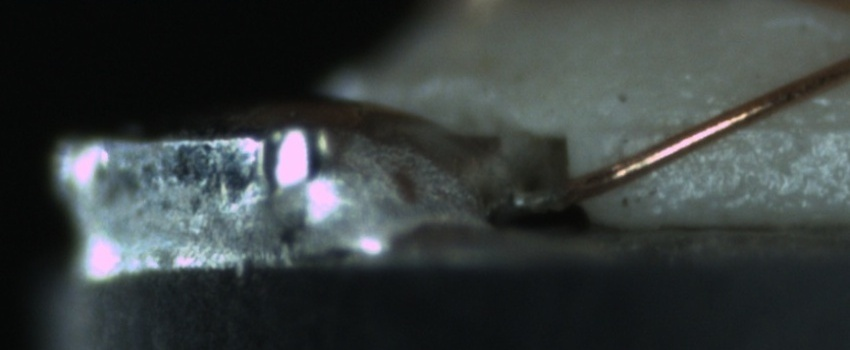DL: (612, 92, 849, 157)
